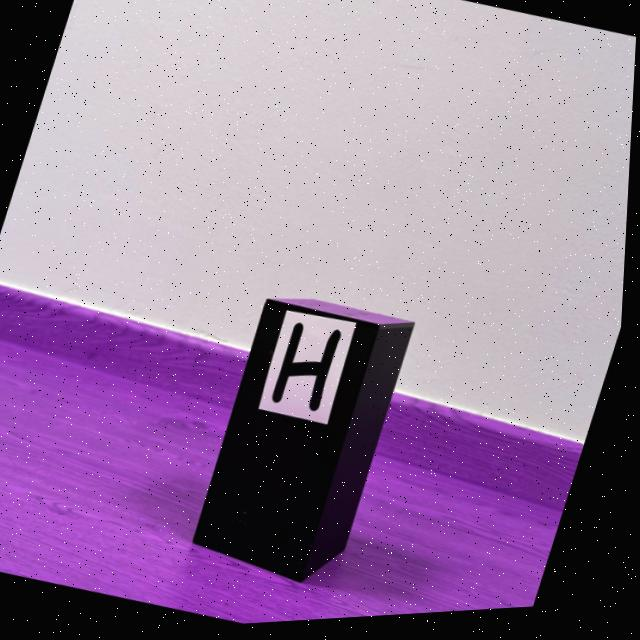H: (276, 326, 344, 415)
